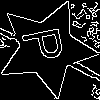P: (21, 23, 73, 65)
